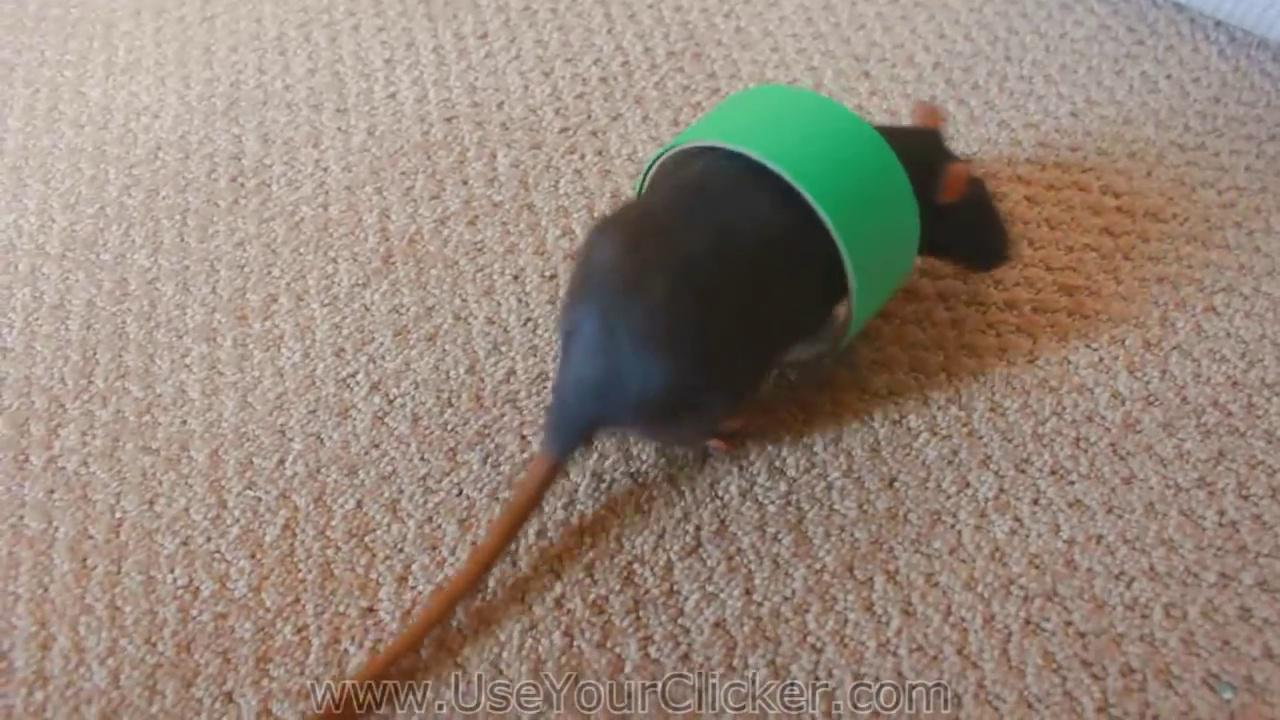rat: (314, 96, 1015, 720)
